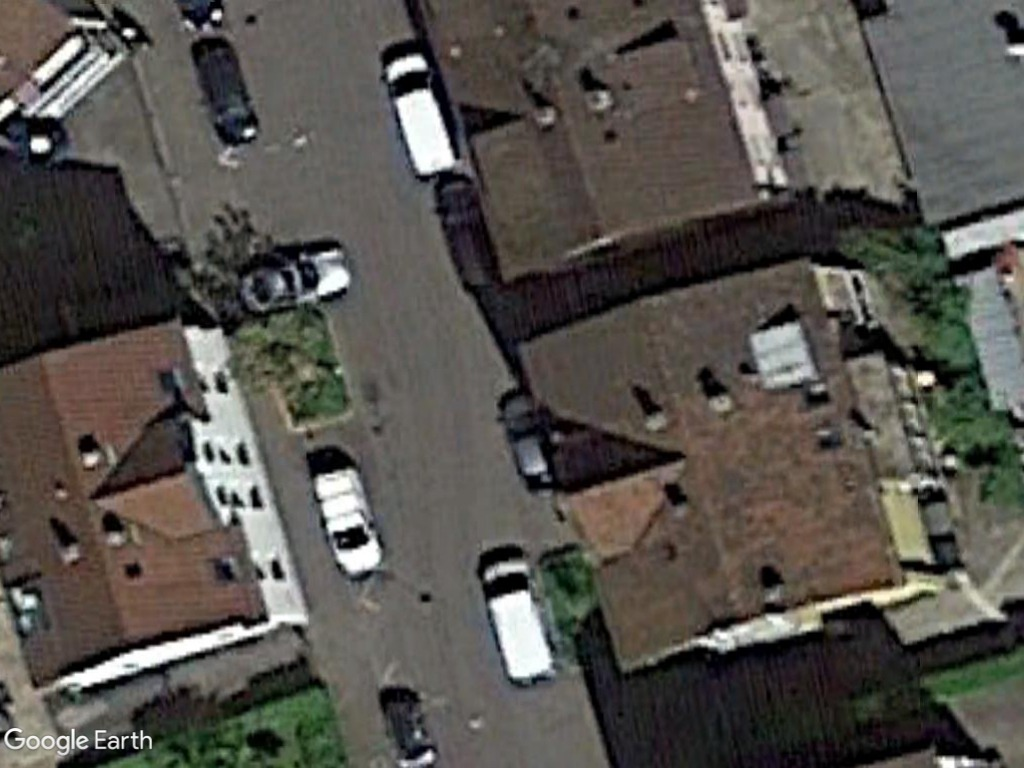van: (380, 46, 464, 180), (478, 553, 556, 689), (307, 467, 386, 584)
